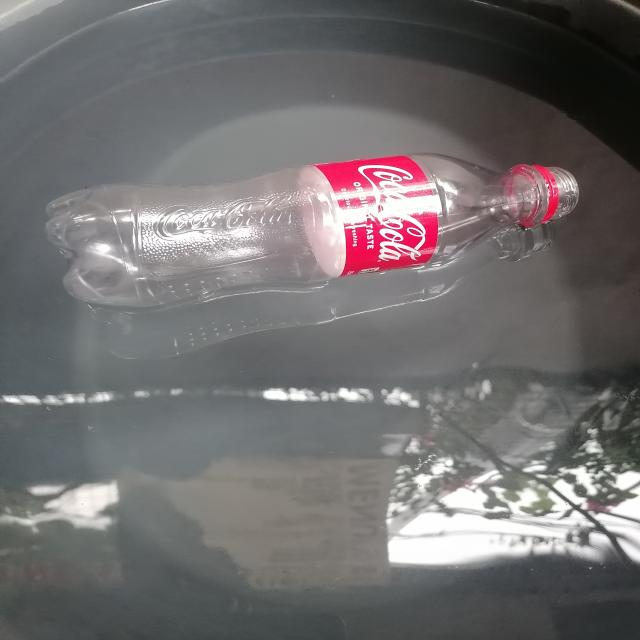Plastic Bottle: (46, 153, 579, 314)
